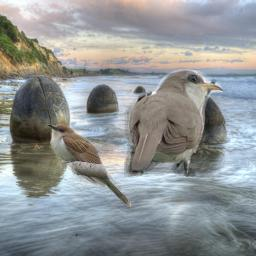Cuckoo: (124, 69, 223, 177), (46, 124, 132, 208)
